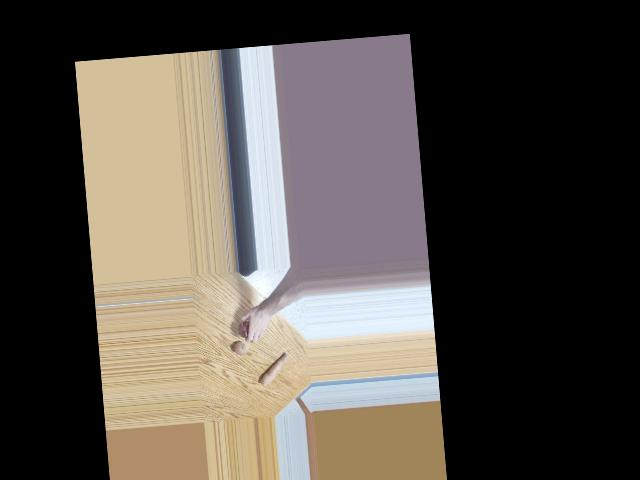onion: (238, 321, 251, 338)
